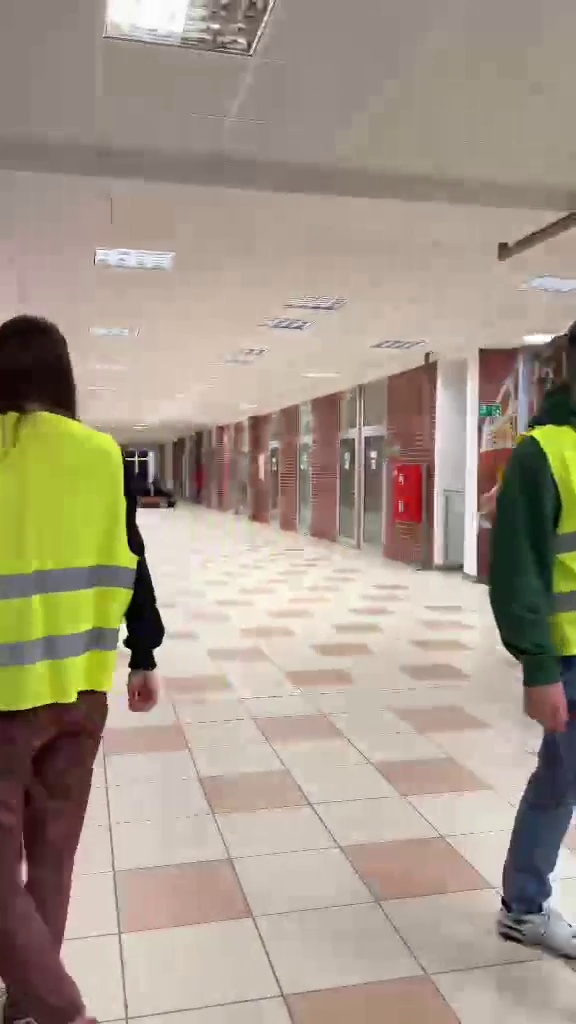vest: (0, 301, 168, 1003), (487, 322, 576, 942)
